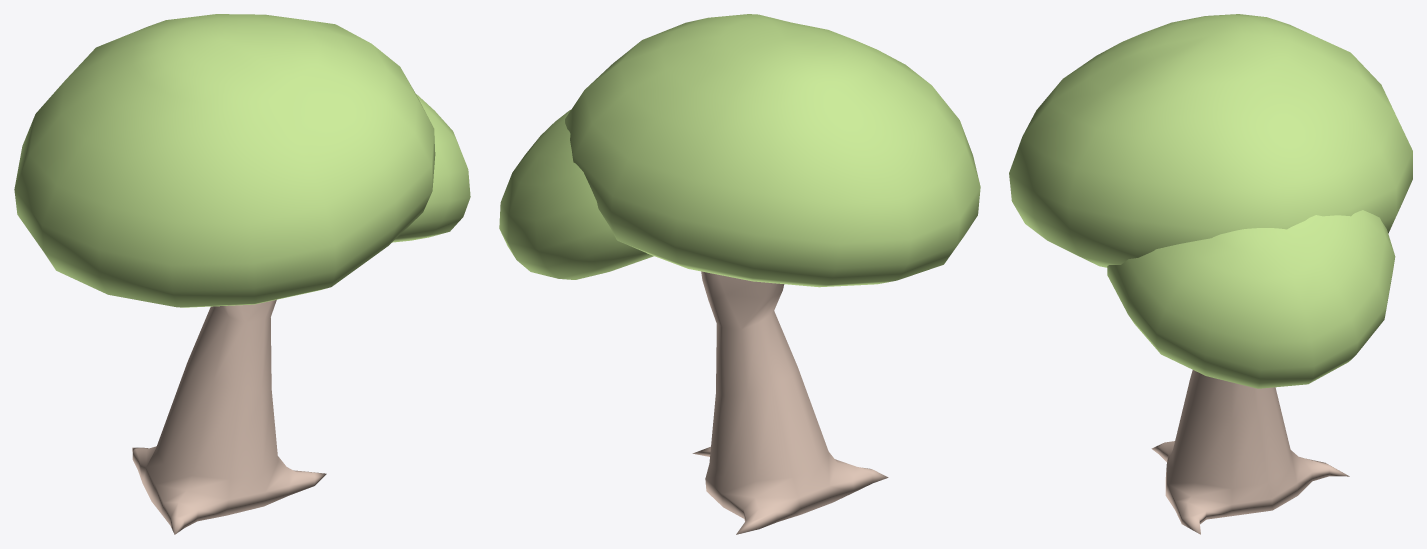
Rendered from pear tree.fbx.
3 renders of one model, left to right at view 1: azimuth 30°, elevation 25°; view 2: azimuth 150°, elevation 25°; view 3: azimuth 270°, elevation 25°, orthographic. The views are drawn at different scales.
Visible parts, largest first — view 1: tree_5_polySurface4; view 2: tree_5_polySurface4; view 3: tree_5_polySurface4.
Boxes of the visible parts, bbox=[...] form: tree_5_polySurface4: bbox=[14, 14, 470, 534]; tree_5_polySurface4: bbox=[499, 14, 980, 534]; tree_5_polySurface4: bbox=[1009, 14, 1412, 534].
Size of the model in its own units: 21.2 by 21.44 by 17.35.
